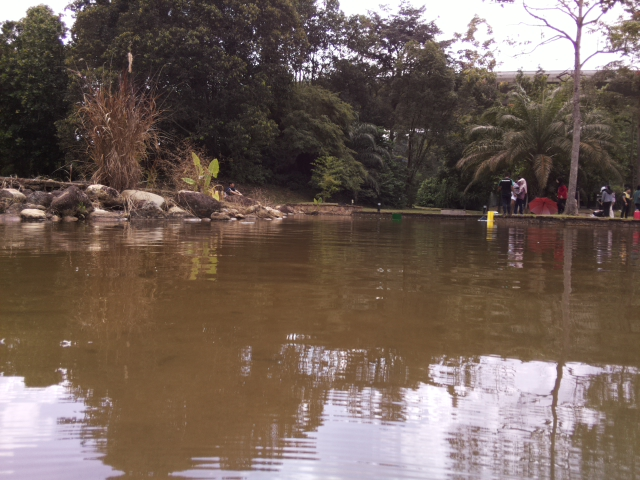obstacle: (390, 211, 402, 220)
